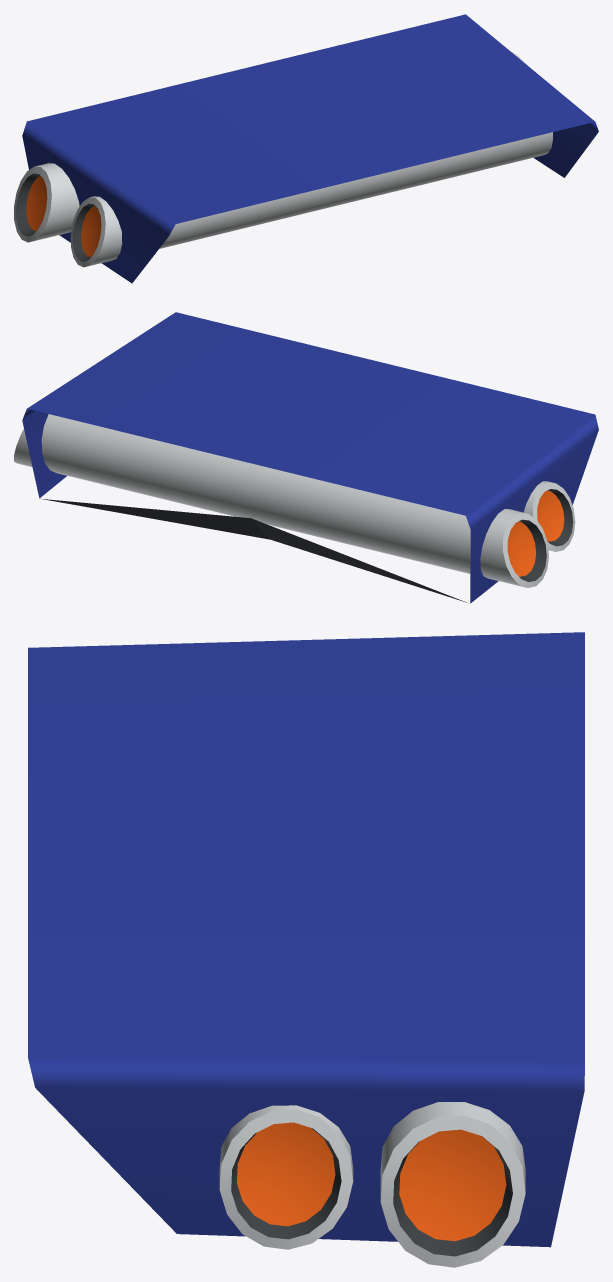
Rendered from Car_12_Turbine.fbx.
The picture shows the model from 3 angles, top to bottom: view 1: azimuth 30°, elevation 25°; view 2: azimuth 150°, elevation 25°; view 3: azimuth 270°, elevation 25°; orthographic projection. The views are drawn at different scales.
Visible parts, largest first — view 1: Car_12_Turbine; view 2: Car_12_Turbine; view 3: Car_12_Turbine.
Part boxes in pixels (bbox=[...]): Car_12_Turbine: bbox=[14, 14, 598, 283]; Car_12_Turbine: bbox=[14, 312, 598, 603]; Car_12_Turbine: bbox=[28, 632, 584, 1267].
Bounding box in the file's own units: 197 × 92.25 × 34.81.
